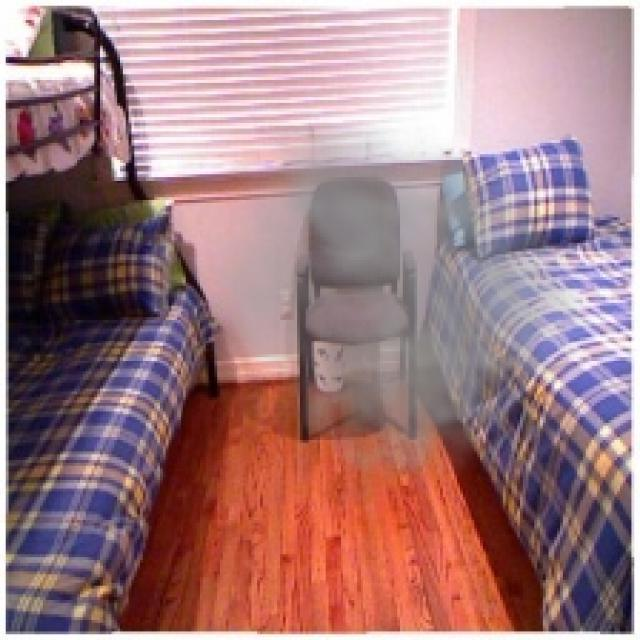Smoke: (188, 125, 606, 520)
